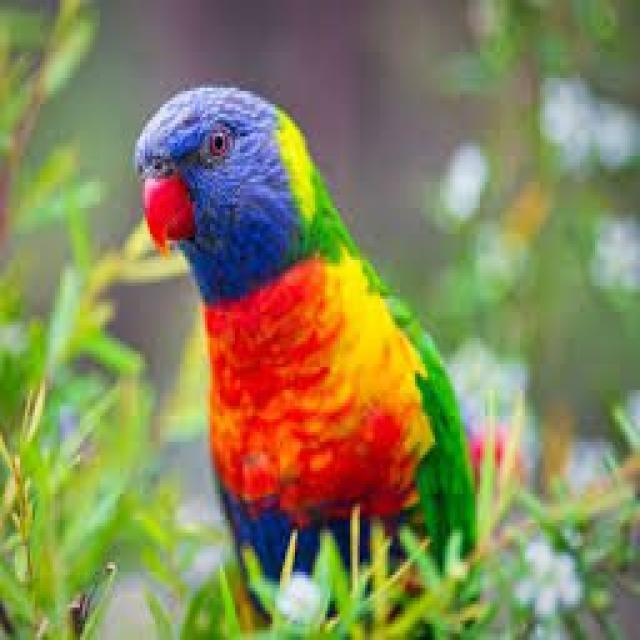parrot: (138, 84, 472, 578)
